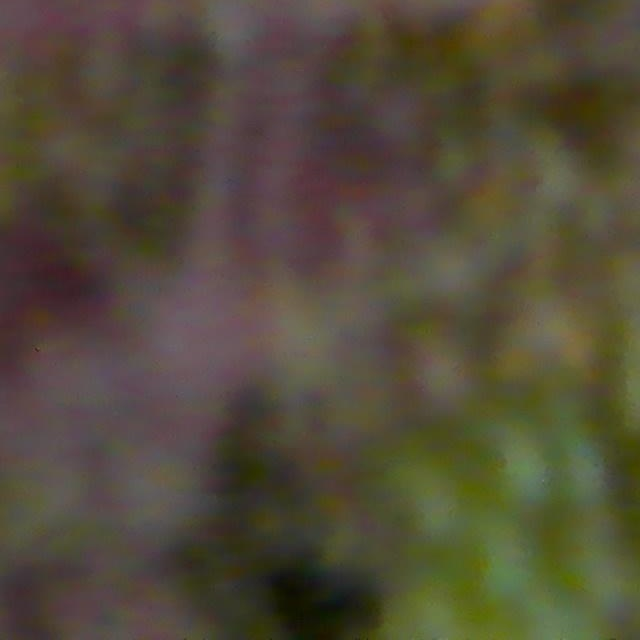SeaGrape: (468, 517, 554, 610), (490, 436, 564, 517)
